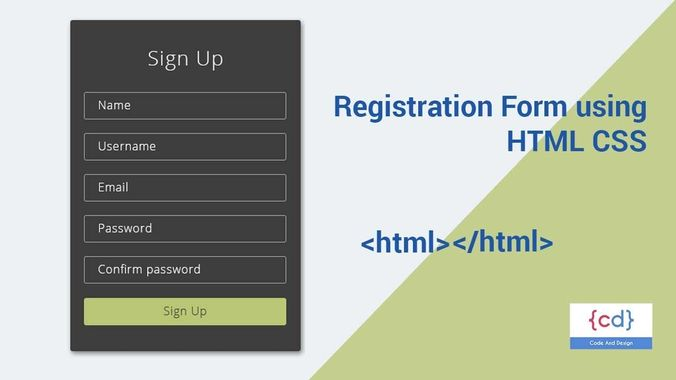_form_: (1, 1, 416, 380)
button: (81, 297, 290, 328)
field: (81, 255, 290, 286), (83, 132, 288, 163), (81, 214, 290, 244), (83, 91, 290, 121), (83, 174, 288, 204)
